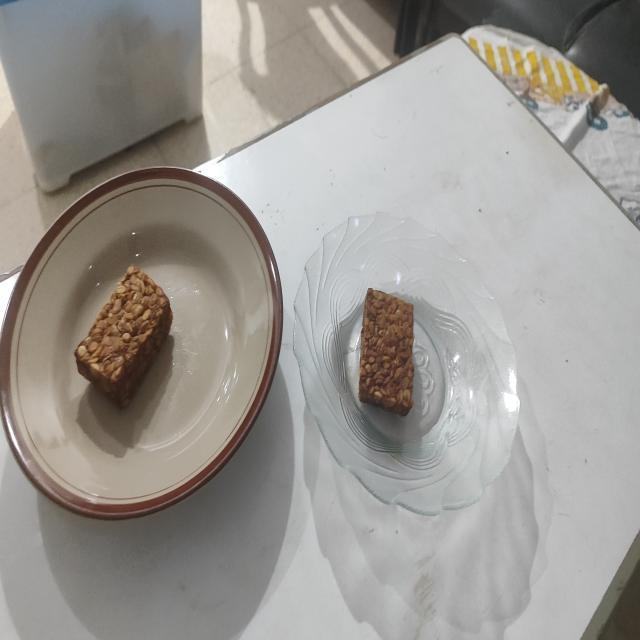tempe_goreng: (74, 266, 172, 406), (359, 288, 414, 415)
